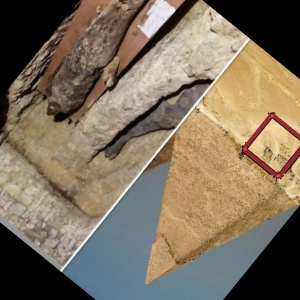square: (240, 111, 300, 180)
